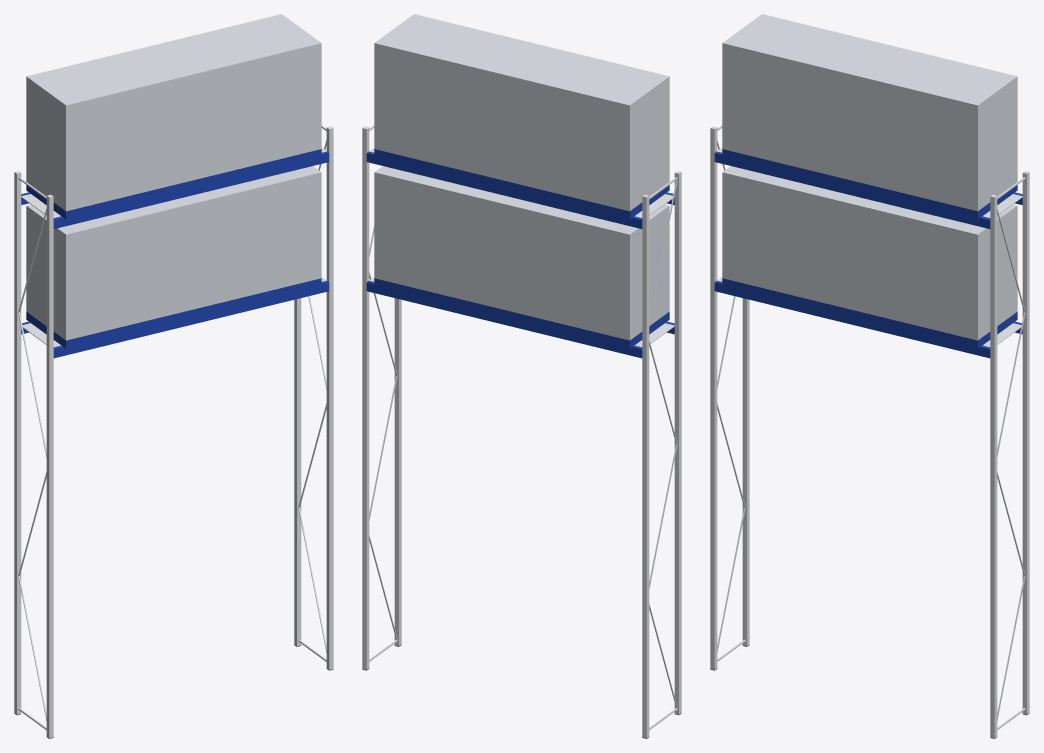
Rendered from SM_MPR_CADRack_F7_W192_Passage_LOD2.fbx.
3 views of the same model, side by side, from view 1: azimuth 30°, elevation 25°; view 2: azimuth 150°, elevation 25°; view 3: azimuth 330°, elevation 25° (orthographic).
Visible parts, largest first — view 1: SM_MPR_CADRack_F7_W192_Passage_LOD2; view 2: SM_MPR_CADRack_F7_W192_Passage_LOD2; view 3: SM_MPR_CADRack_F7_W192_Passage_LOD2.
Boxes of the visible parts, x1=… form: SM_MPR_CADRack_F7_W192_Passage_LOD2: x1=14, y1=14, x2=333, y2=738; SM_MPR_CADRack_F7_W192_Passage_LOD2: x1=362, y1=14, x2=681, y2=738; SM_MPR_CADRack_F7_W192_Passage_LOD2: x1=710, y1=14, x2=1029, y2=738.
Size of the model in its own units: 503 by 122 by 1068.
